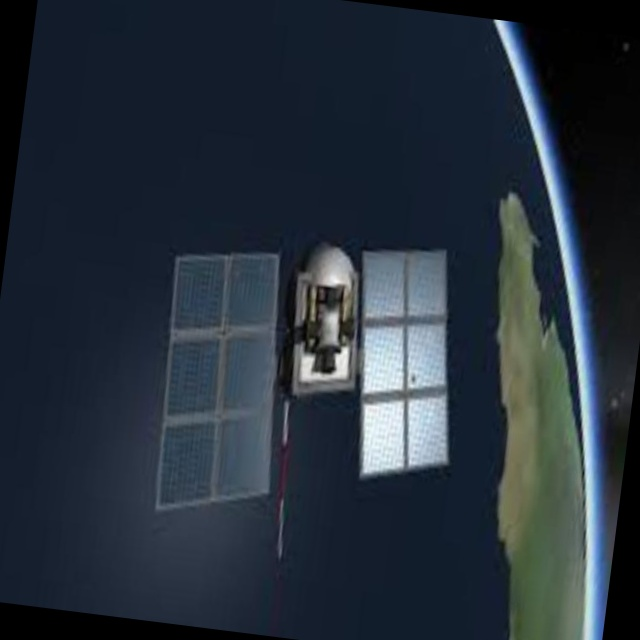satellite: (120, 163, 497, 595)
